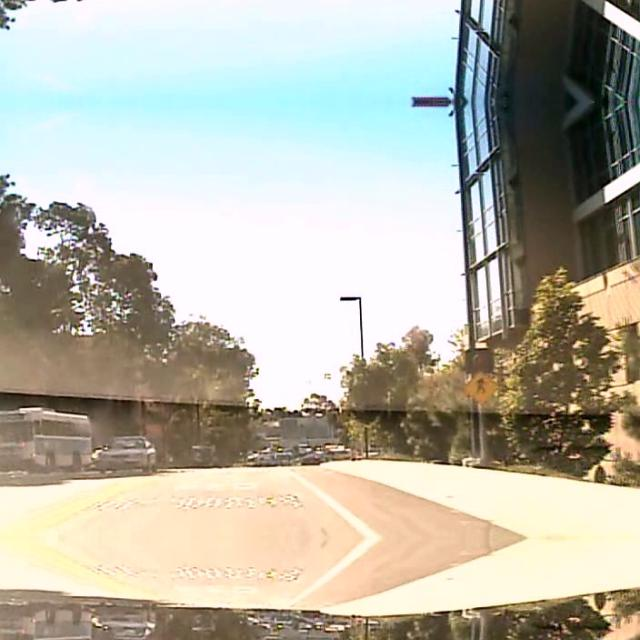pedestrianCrossing: (462, 369, 498, 403)
